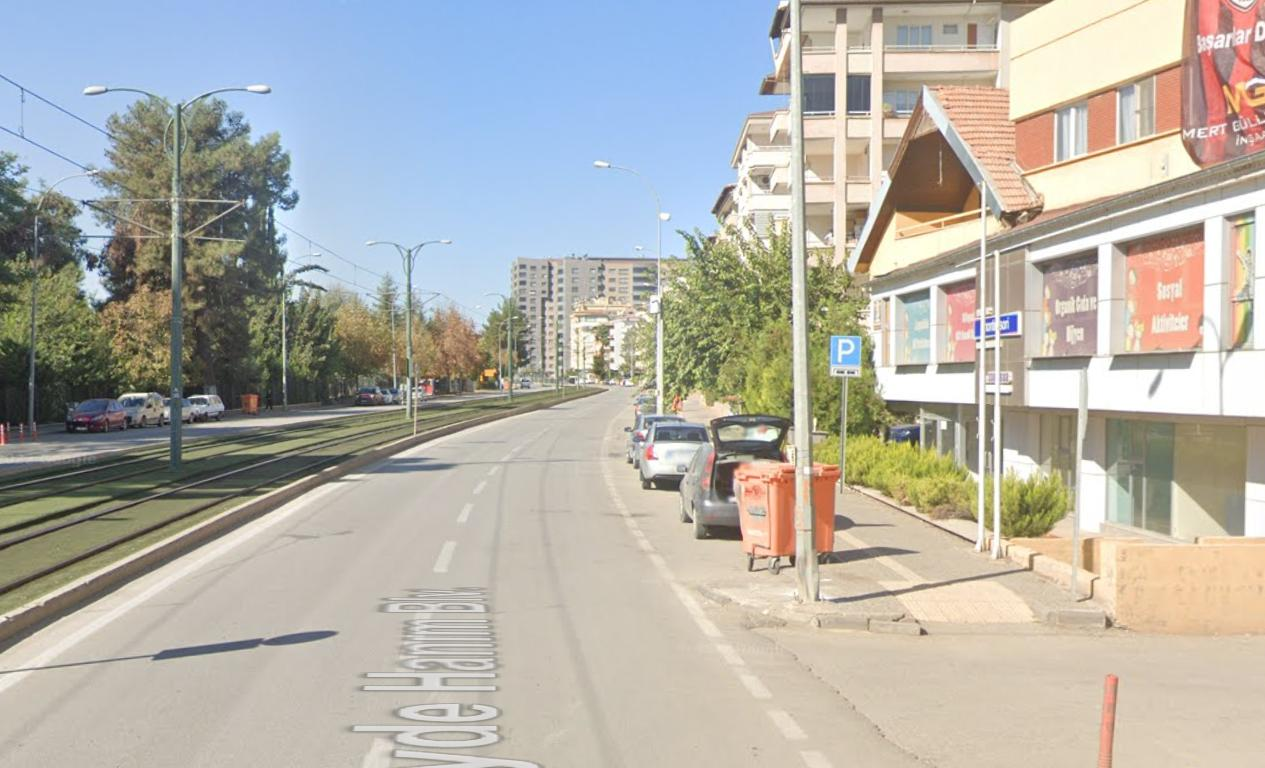park: (831, 333, 862, 365)
